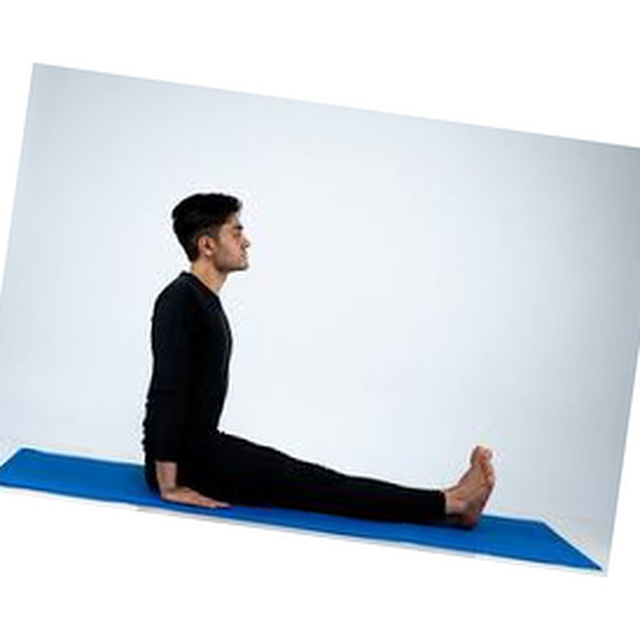Staff_Pose: (143, 193, 496, 533)
